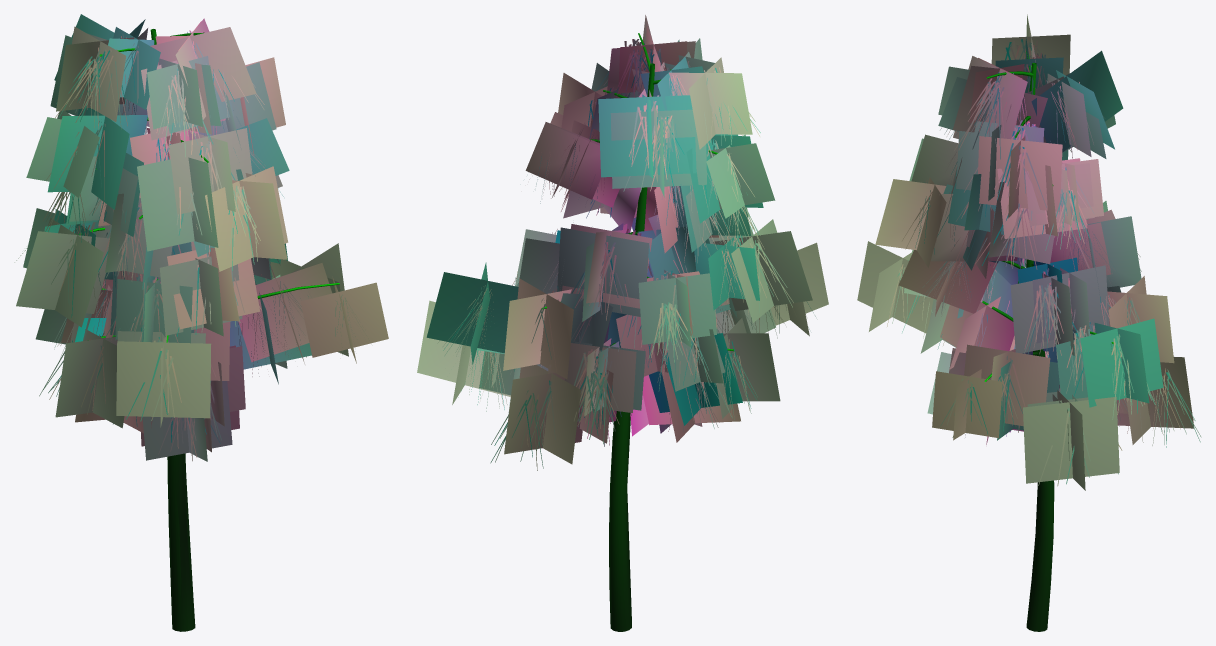
Rendered from casuarina_1.glb.
The picture shows the model from 3 angles, left to right: view 1: azimuth 30°, elevation 25°; view 2: azimuth 150°, elevation 25°; view 3: azimuth 270°, elevation 25°; orthographic projection. The views are drawn at different scales.
Visible parts, largest first — view 1: mid, near; view 2: mid, near; view 3: mid, near.
Boxes of the visible parts, x1,y1,x2,y2 form: mid: [16, 14, 388, 631]; near: [14, 29, 369, 631]; mid: [417, 15, 828, 619]; near: [437, 33, 815, 631]; mid: [857, 14, 1193, 625]; near: [887, 39, 1201, 631].
Size of the model in its own units: 8.79 by 13.92 by 7.66.
